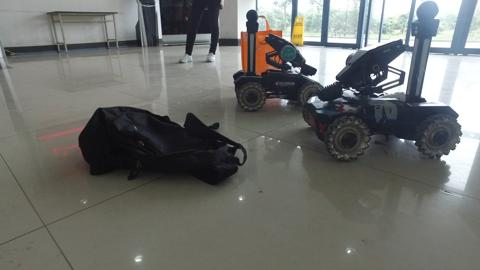bag: (78, 105, 242, 174)
chariot: (309, 3, 462, 159), (231, 5, 323, 112)
